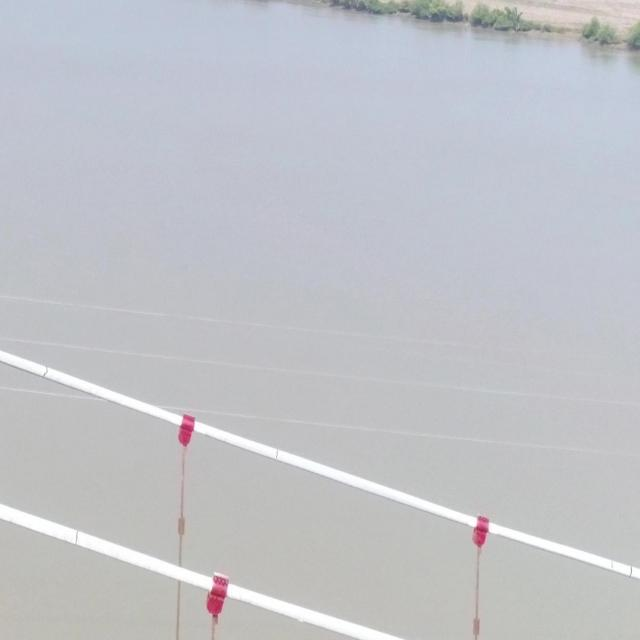crack: (75, 531, 79, 546), (43, 367, 48, 378), (274, 449, 278, 459)
